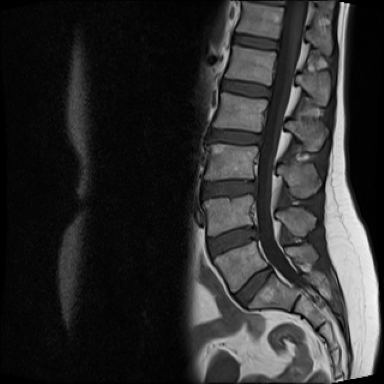Lumbar Disc Bulge (LDB): (165, 261, 228, 310), (154, 220, 222, 251)
Normal IVD: (150, 171, 216, 196), (157, 117, 220, 143), (175, 68, 231, 94), (189, 23, 244, 48)
Spinal Stenosis (SS): (209, 259, 228, 286), (203, 222, 221, 242)
